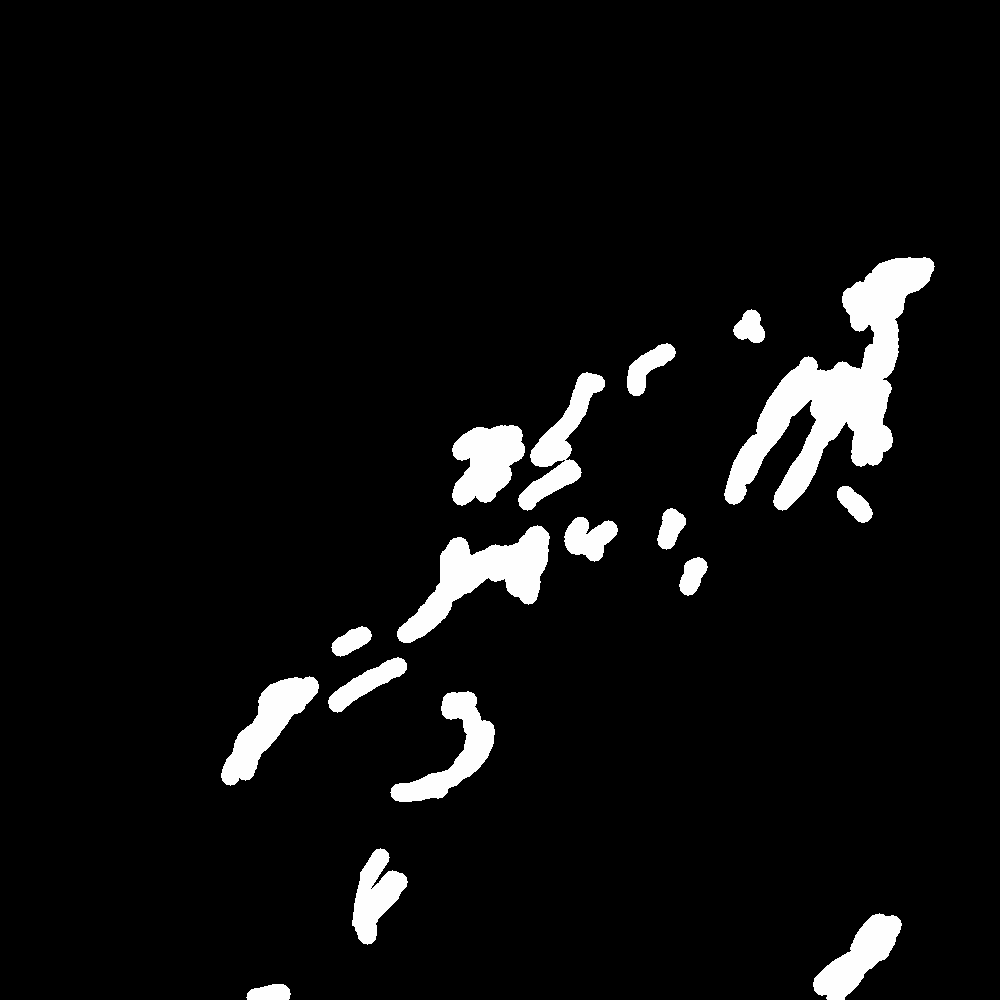illegal: (331, 144, 981, 730), (349, 710, 500, 1000), (227, 635, 357, 791), (450, 425, 525, 502)
